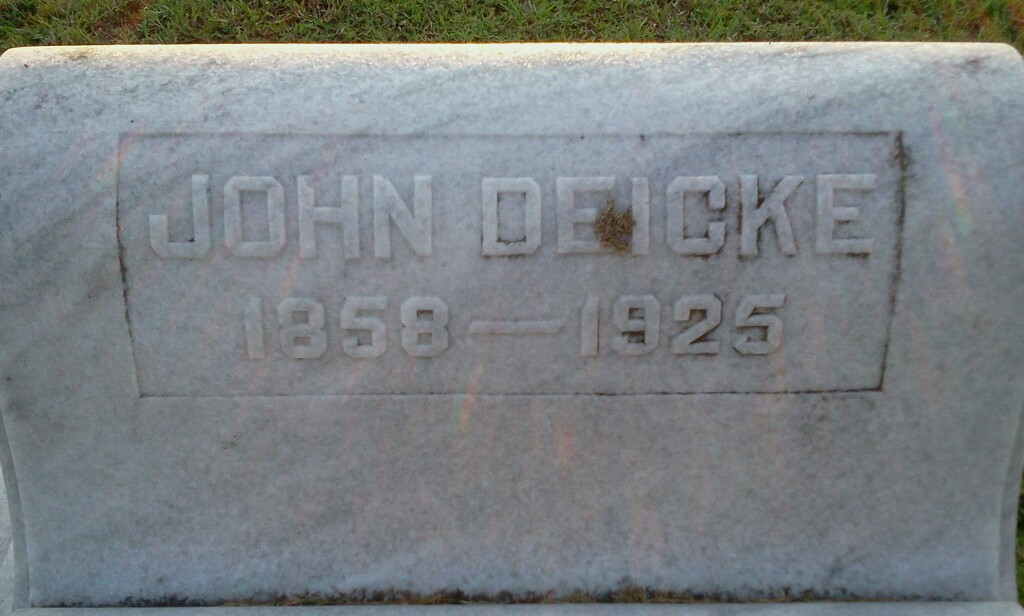upright: (0, 40, 1024, 616)
